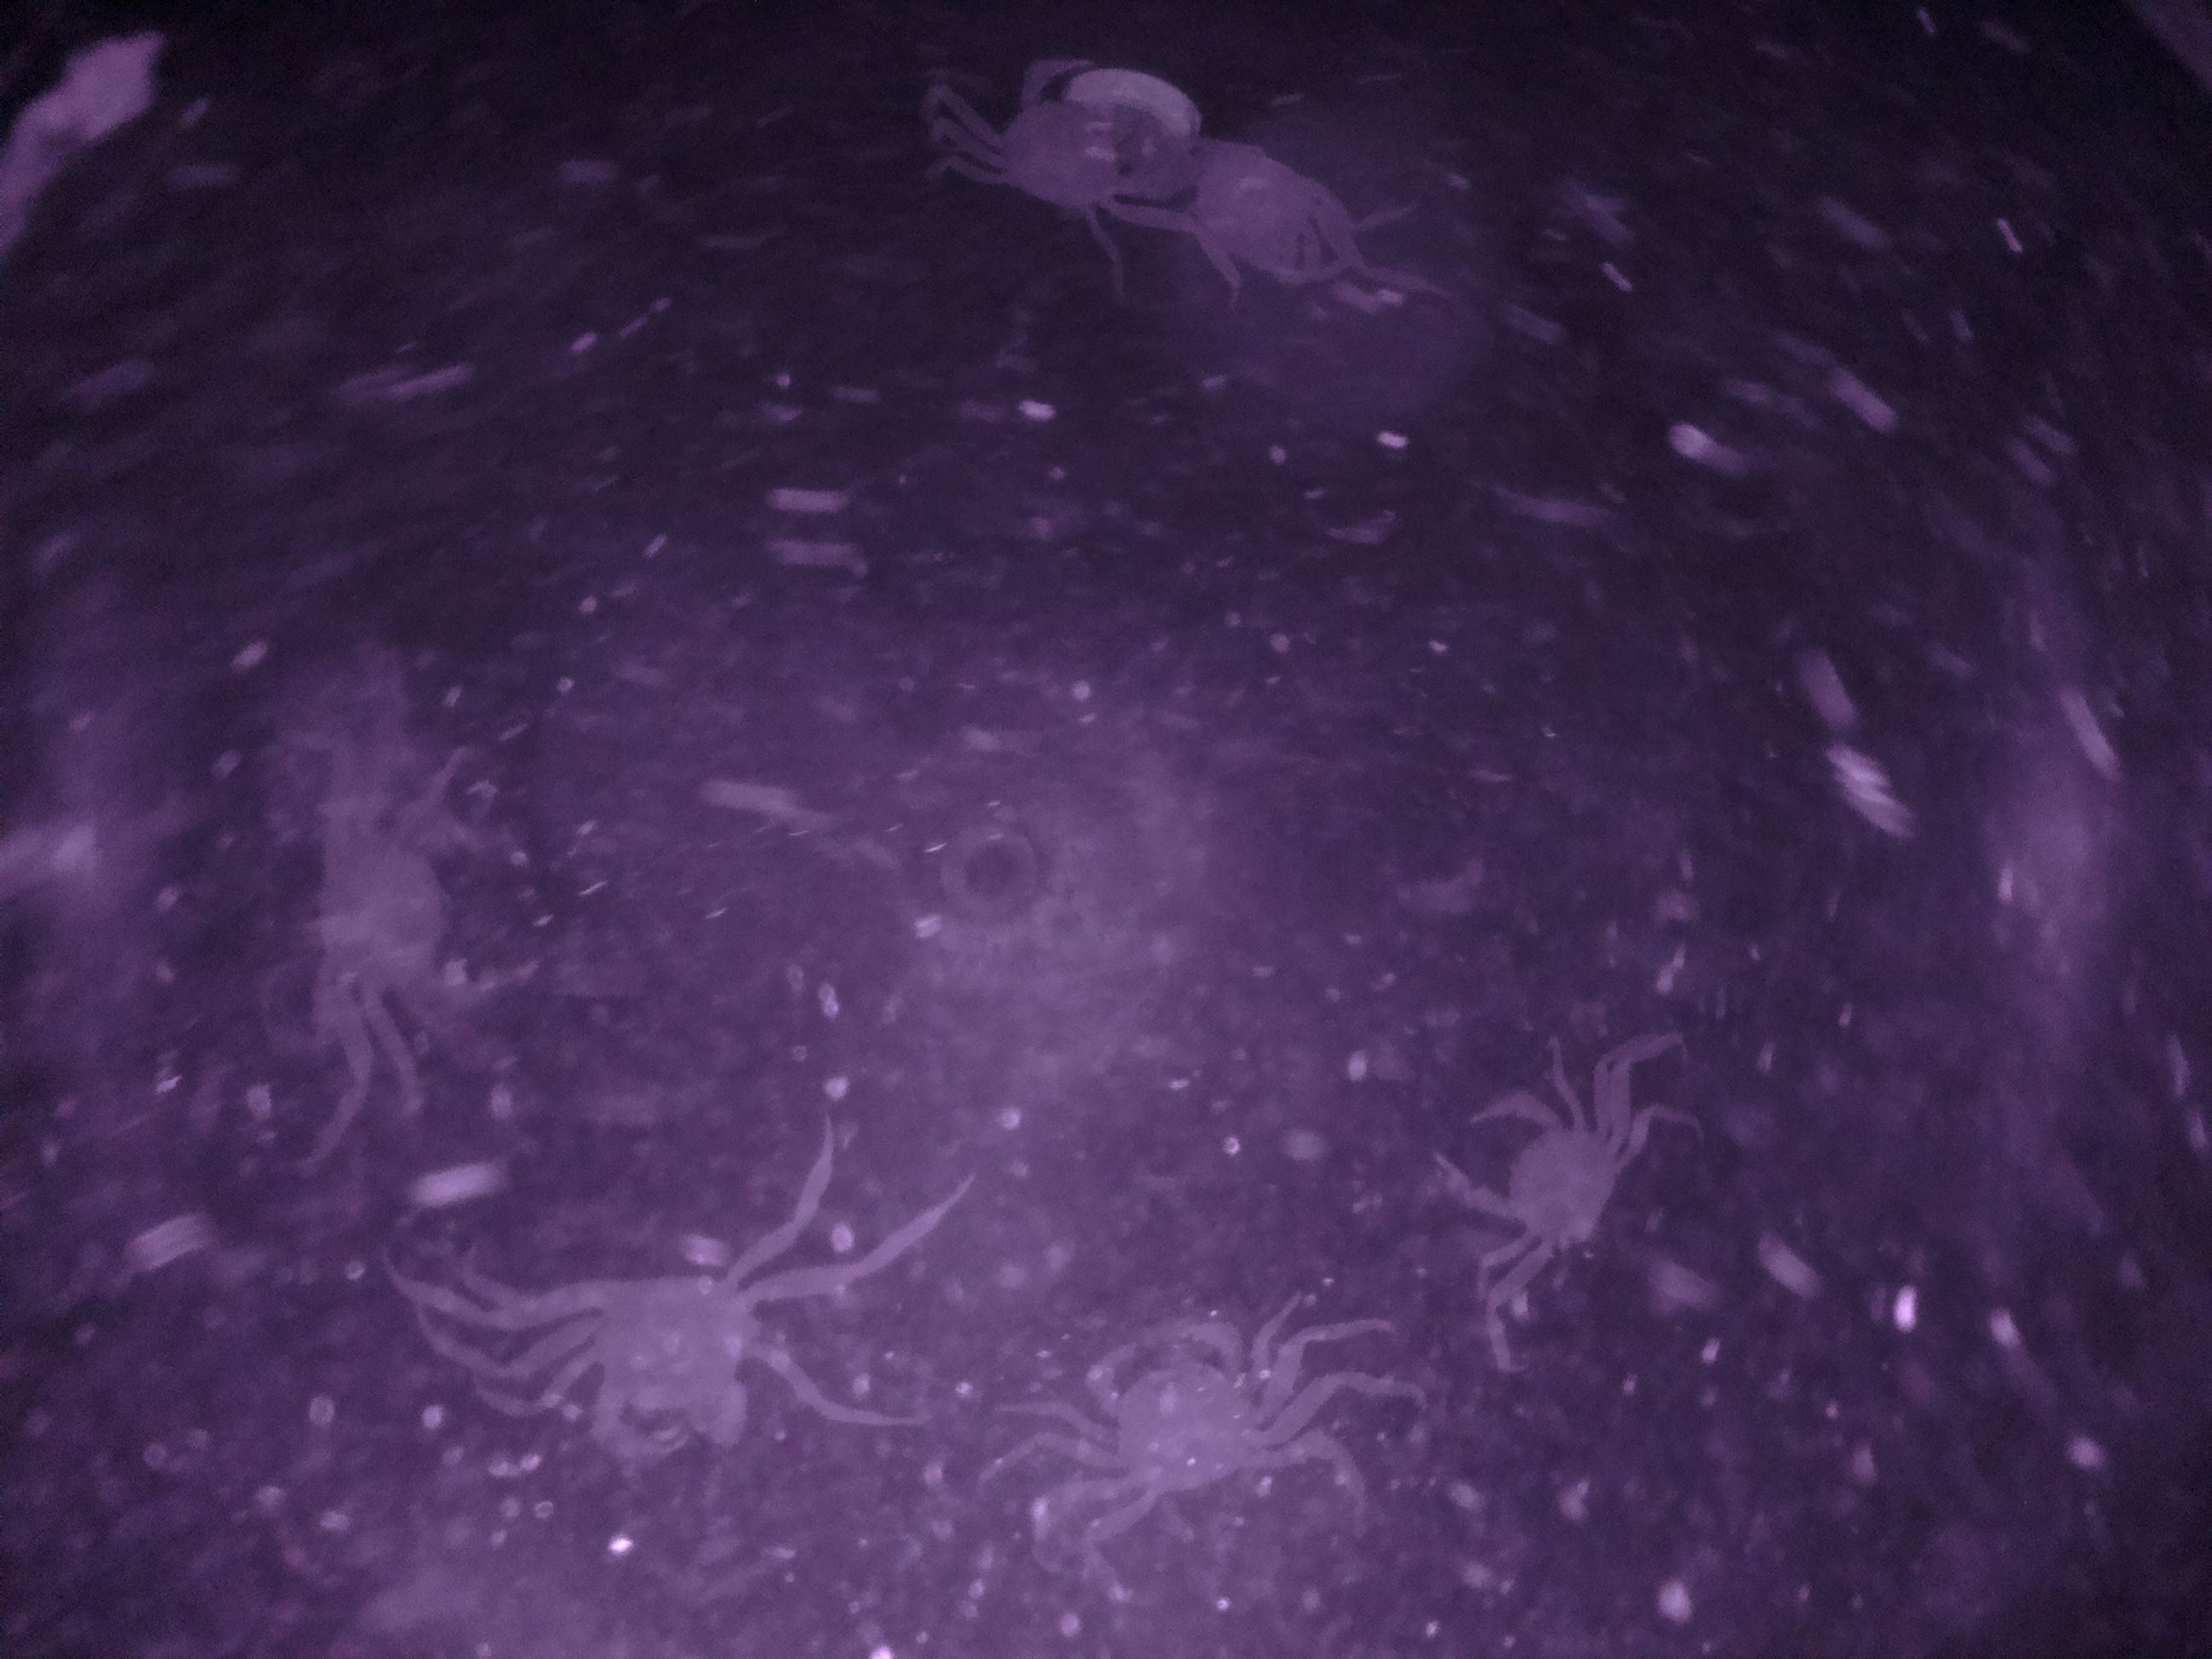Crab: (516, 1243, 806, 1467), (1015, 1303, 1299, 1527), (1413, 1082, 1663, 1262)
